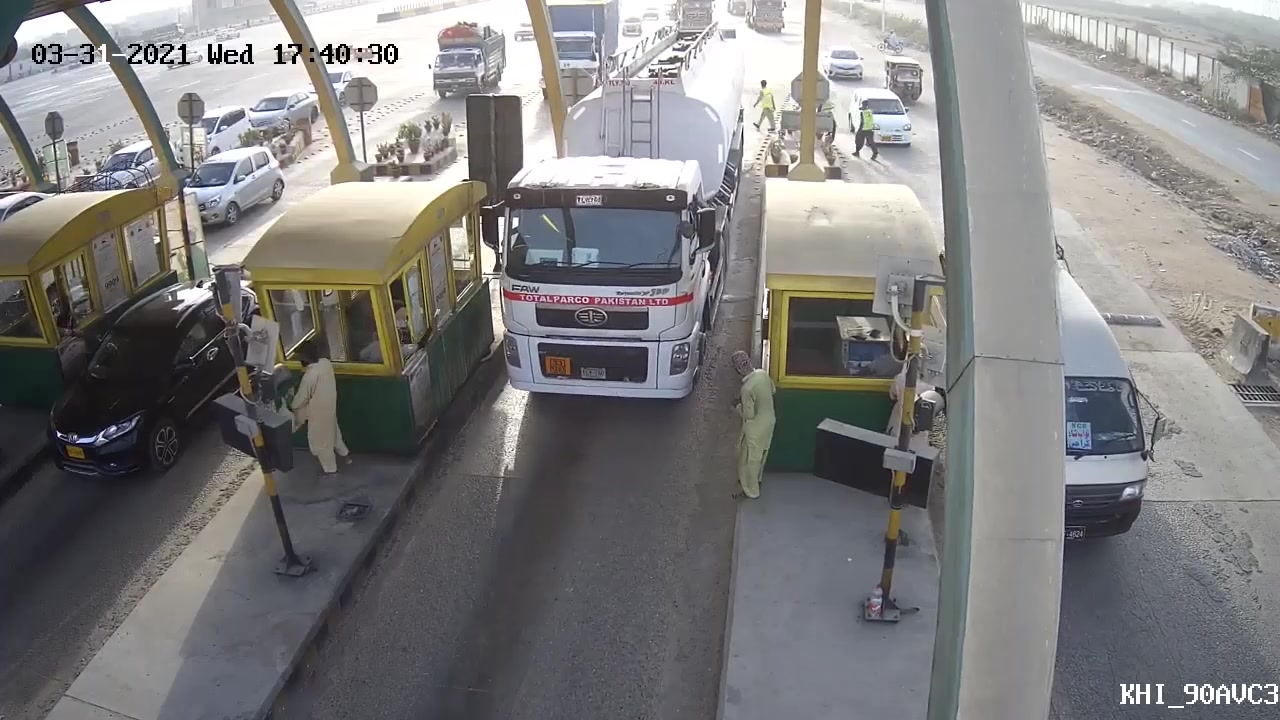F6: (468, 17, 755, 423)
